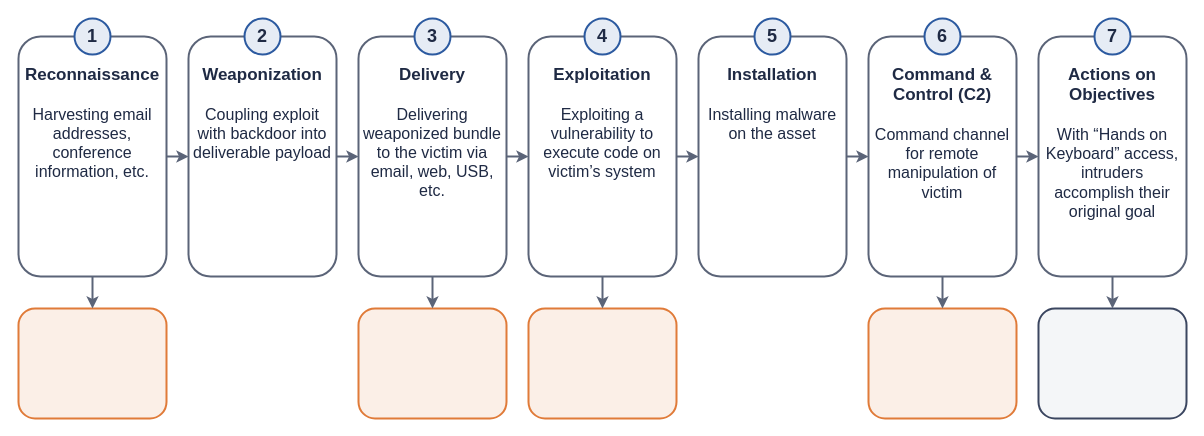
Image size: 1204x436. Some labels were removed from this diagram. Each missing label, with the centre of its shape:
"DNS Protocol Anomalies DNS Exploits DNS Hijacking" goes at point 602,363.
"DNS Reconnaissance" goes at point 92,363.
"DNS Resolution DNS Callback DNS Tunneling" goes at point 942,363.
"DNS Resolution DNS Infiltration" goes at point 432,363.
"DNS Tunneling DNS Exfiltration DNS DDoS" goes at point 1112,363.
